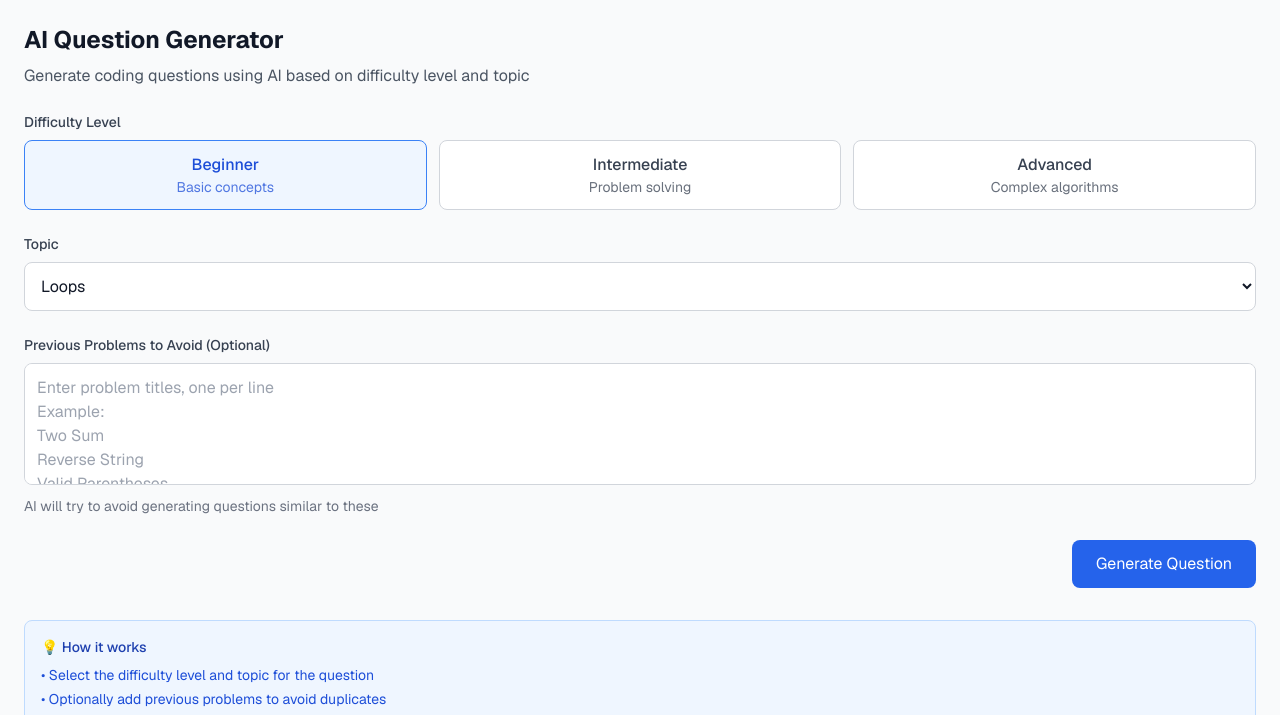
it: QuestionGenerator › allows selecting different difficulty levels
Click the text "Intermediate". click: (640, 164)
box: [593,154,687,175]
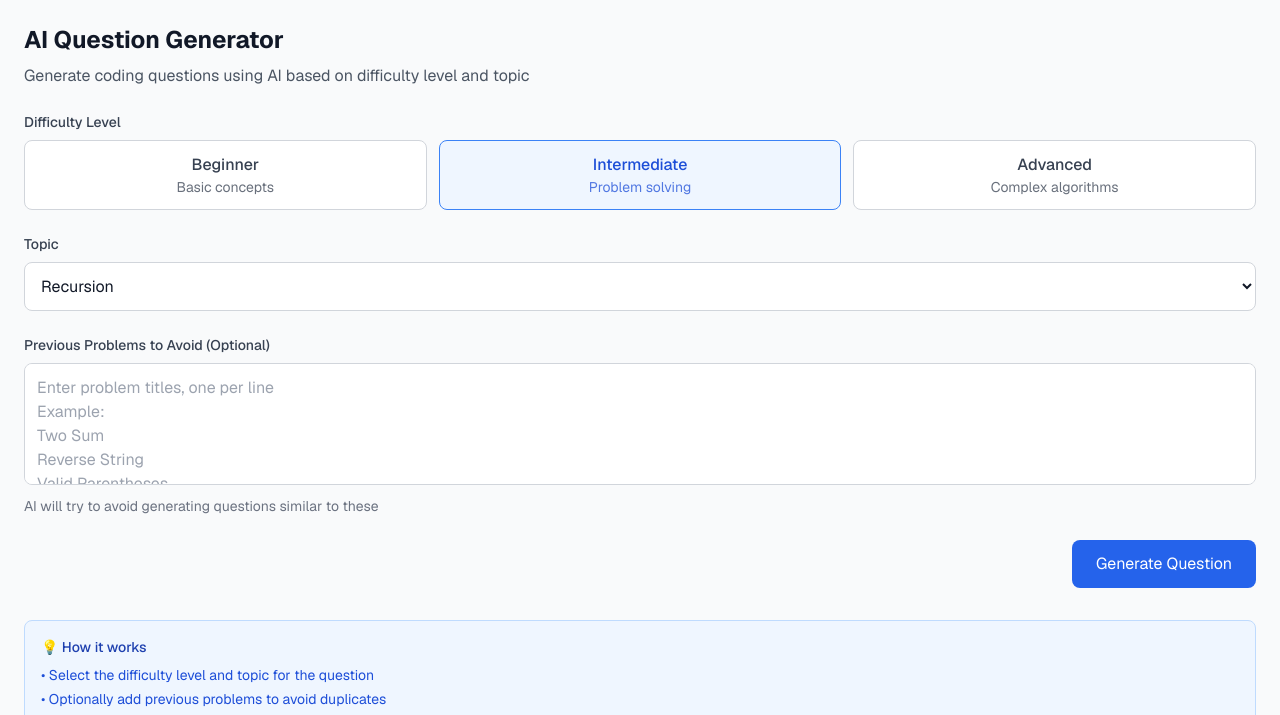
Check: the dropdown showing "Recursion" is shown, box [24,262,1256,311]
